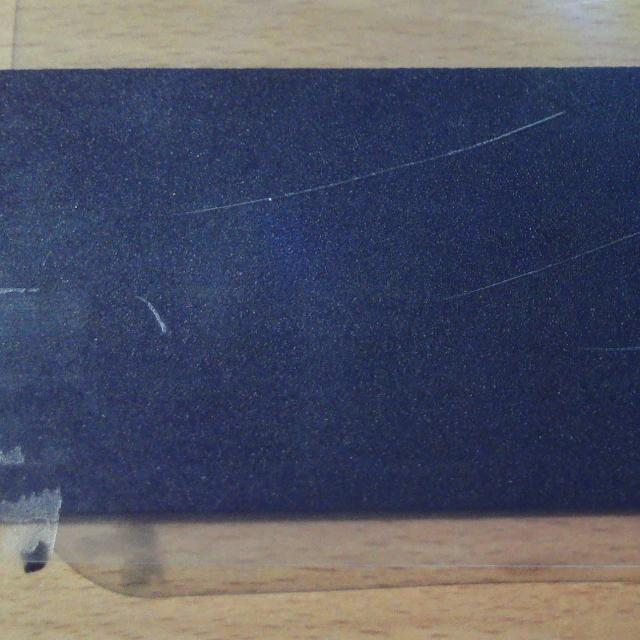defect: (177, 109, 566, 215), (455, 230, 640, 297), (135, 294, 169, 335), (590, 346, 640, 354)
